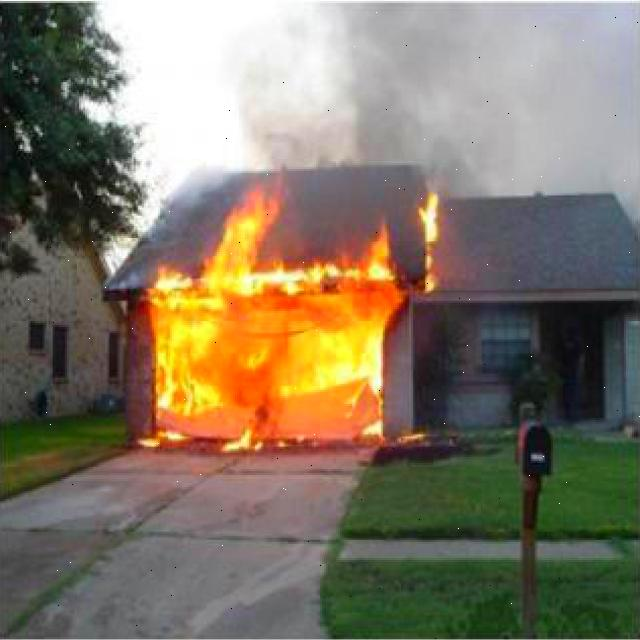fire: (148, 224, 393, 438), (409, 190, 442, 286)
smoke: (241, 11, 636, 165)
